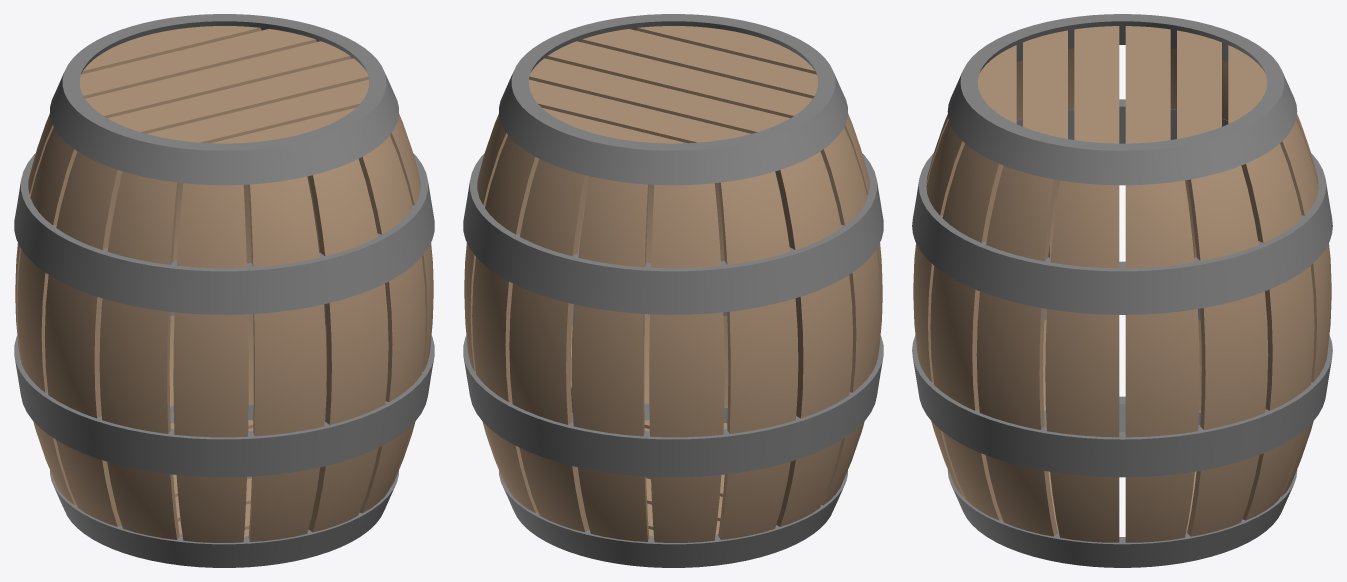
File: 859_barrel.glb
3 renders of one model, left to right at view 1: azimuth 30°, elevation 25°; view 2: azimuth 150°, elevation 25°; view 3: azimuth 270°, elevation 25°, orthographic.
Visible parts, largest first — view 1: Body; view 2: Body; view 3: Body.
Part boxes in pixels (x1,y1,x2,y2): Body: (14,14,434,567); Body: (463,14,883,567); Body: (912,14,1332,567).
Bounding box in the file's own units: 0.6566 × 0.7179 × 0.6566.
